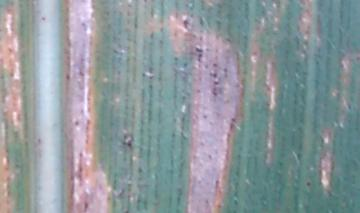tarspot: (304, 177, 314, 192)
